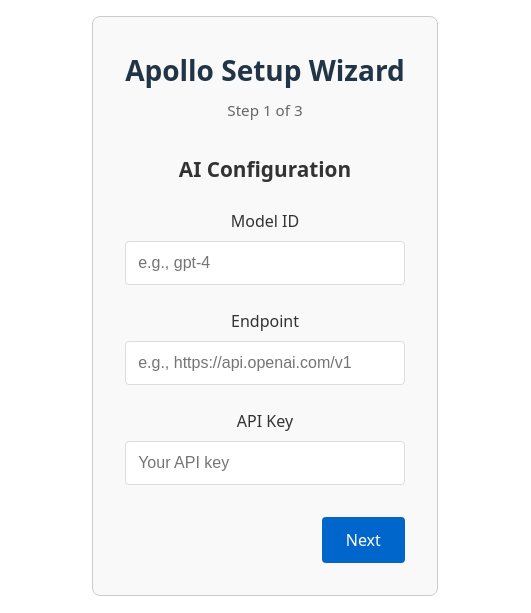
SetupWizard › renders all configuration steps
The image size is (531, 613).
expect the field with id "endpoint" is shown: met, box [125, 341, 405, 385]
expect the password field with id "apiKey" is shown: met, box [125, 441, 405, 485]
Fill Step 1
Type "gpt-4" into the field with id "modelId".
click(265, 263); type("gpt-4")  # box [125, 241, 405, 285]
Type "https://api.openai.com/v1" into the field with id "endpoint".
click(265, 363); type("https://api.openai.com/v1")  # box [125, 341, 405, 385]
Type "test-key" into the password field with id "apiKey".
click(265, 463); type("test-key")  # box [125, 441, 405, 485]
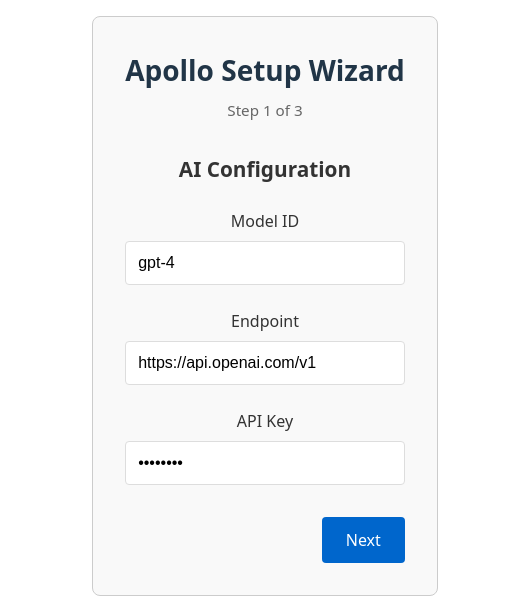
Click the button "Next".
click(363, 540)  # box [322, 517, 405, 563]
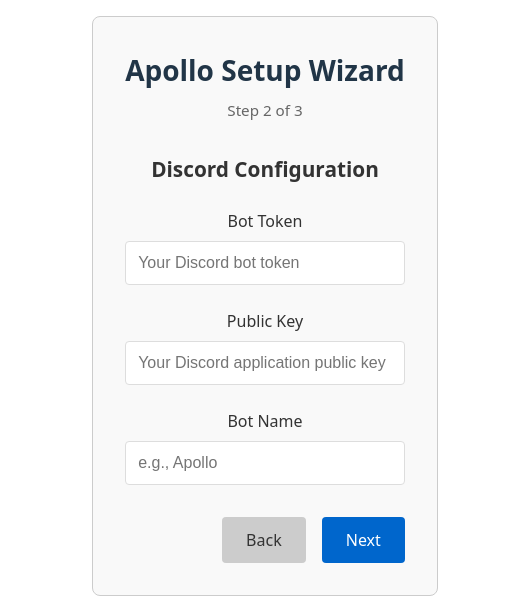
expect the text "Step 2 of 3" is shown: met, box [227, 100, 303, 120]
expect the text "Discord Configuration" is shown: met, box [151, 155, 379, 183]
expect the password field with id "token" is shown: met
Fill Step 2
Type "discord-token" into the password field with id "token".
click(265, 263); type("discord-token")  # box [125, 241, 405, 285]
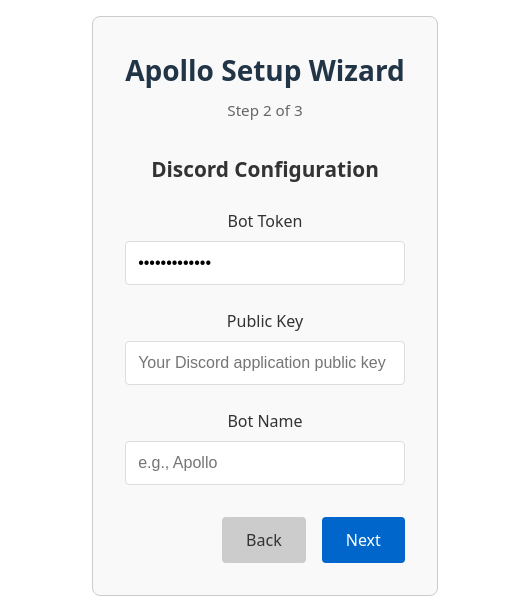
Type "public-key" into the field labelled "Public Key".
click(265, 363); type("public-key")  # box [125, 341, 405, 385]
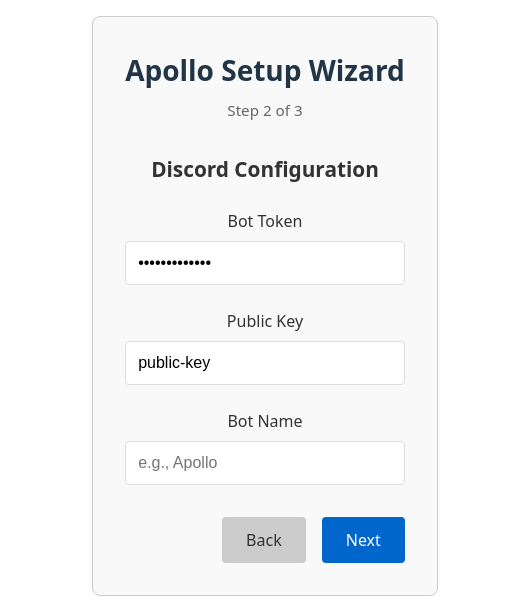
Type "Apollo" into the field with id "botName".
click(265, 463); type("Apollo")  # box [125, 441, 405, 485]
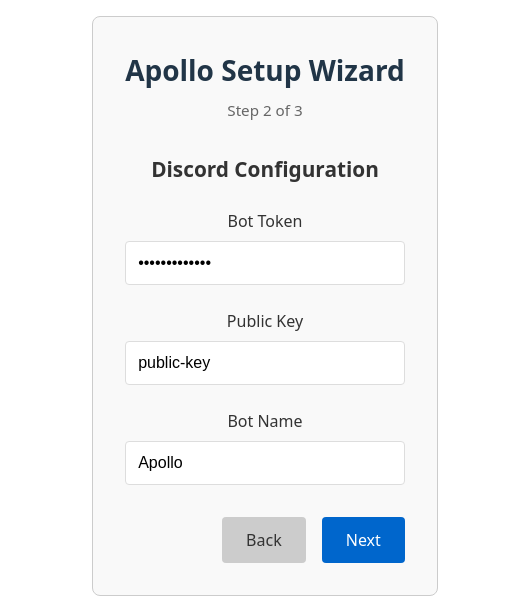
Click the button "Next".
click(363, 540)  # box [322, 517, 405, 563]
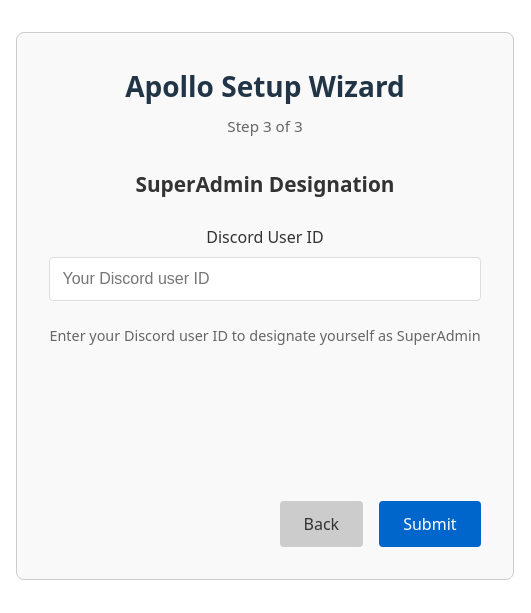
expect the text "Step 3 of 3" is shown: met, box [227, 116, 303, 136]
expect the text "SuperAdmin Designation" is shown: met, box [136, 170, 394, 198]
expect the field with id "discordUserId" is shown: met, box [49, 257, 480, 301]
